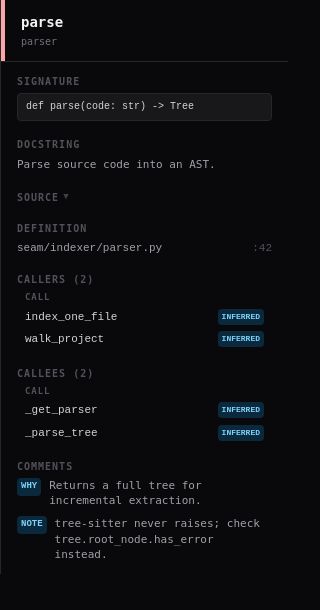
Scenario: DetailPanel B4 — Source section: reason/message branch › surfaces the human-readable message when reason is present
Expected: the heading "parse" is shown, [21, 14, 63, 30]
Click the button "Source ▼": (144, 197) [17, 190, 272, 205]
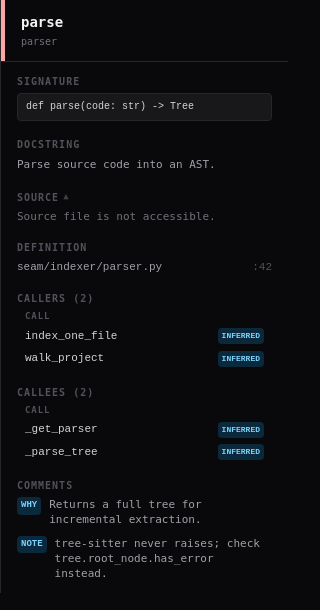
Expected: the text "Source file is not accessible." is shown, [17, 210, 216, 223]
